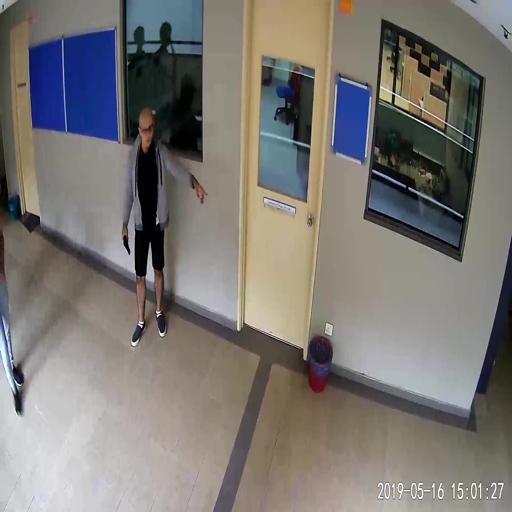pistol: (122, 230, 130, 253)
